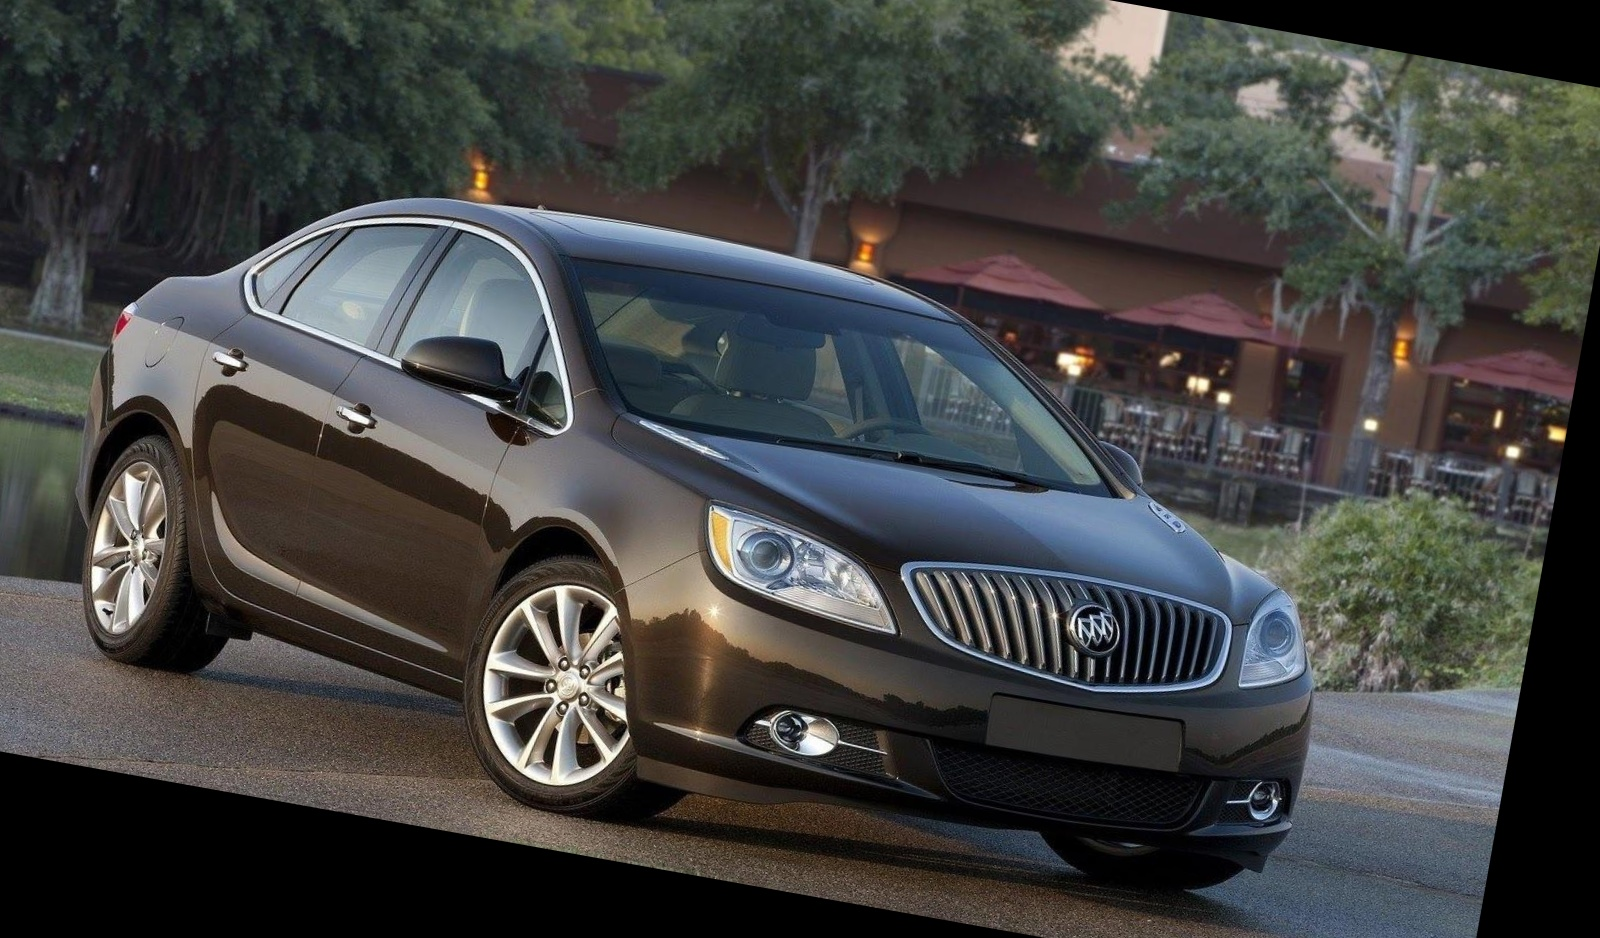car: (0, 79, 1453, 938)
